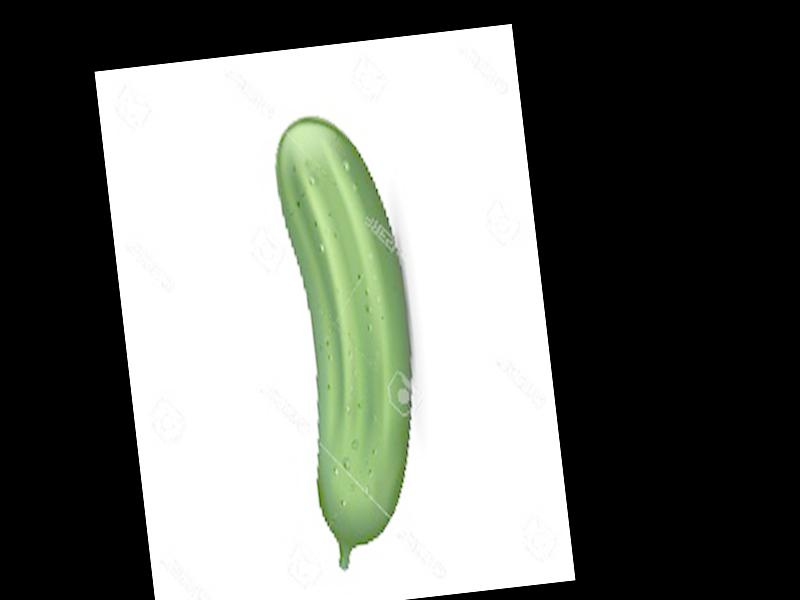Cucumber: (269, 107, 437, 571)
